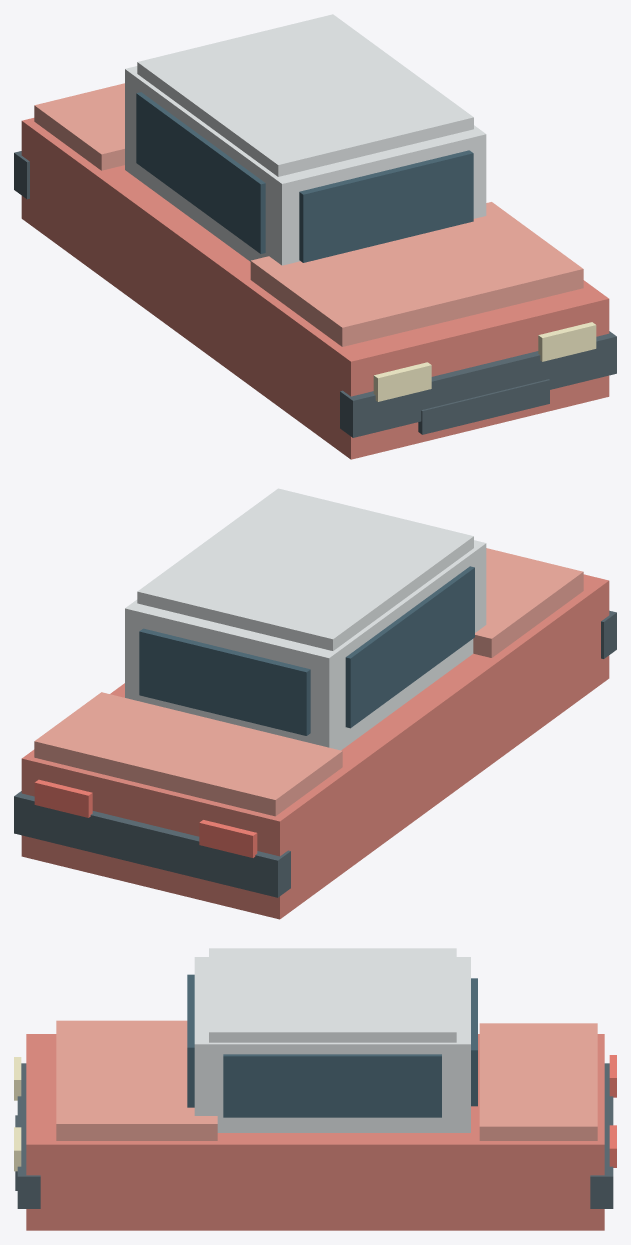
Rendered from physics-car.glb.
The picture shows the model from 3 angles, top to bottom: view 1: azimuth 30°, elevation 25°; view 2: azimuth 150°, elevation 25°; view 3: azimuth 270°, elevation 25°; orthographic projection. The views are drawn at different scales.
Visible parts, largest first — view 1: Body, Roof, Hood, Cabin, Windshield, RightWindow, FrontBumper, Trunk, Grille, LeftHeadlight, RightHeadlight, RearBumper; view 2: Body, Roof, Trunk, Cabin, RearWindow, RearBumper, RightWindow, Hood, LeftTaillight, RightTaillight, FrontBumper; view 3: Body, Roof, Hood, Trunk, LeftWindow, Cabin, FrontBumper, RearBumper, Windshield, RearWindow.
Part boxes in pixels (x1=…): Body: x1=21, y1=118, x2=609, y2=459; Roof: x1=137, y1=14, x2=473, y2=176; Hood: x1=250, y1=202, x2=583, y2=346; Cabin: x1=125, y1=66, x2=486, y2=265; Windshield: x1=299, y1=150, x2=473, y2=262; RightWindow: x1=136, y1=92, x2=265, y2=253; FrontBumper: x1=340, y1=331, x2=616, y2=437; Trunk: x1=34, y1=83, x2=124, y2=170; Grille: x1=418, y1=379, x2=549, y2=434; LeftHeadlight: x1=538, y1=322, x2=596, y2=361; RightHeadlight: x1=373, y1=362, x2=431, y2=401; RearBumper: x1=14, y1=151, x2=29, y2=199; Body: x1=21, y1=574, x2=609, y2=919; Roof: x1=137, y1=488, x2=473, y2=650; Trunk: x1=34, y1=692, x2=342, y2=816; Cabin: x1=125, y1=540, x2=486, y2=750; RearWindow: x1=139, y1=628, x2=310, y2=735; RearBumper: x1=14, y1=791, x2=290, y2=897; RightWindow: x1=345, y1=566, x2=474, y2=728; Hood: x1=473, y1=548, x2=583, y2=657; LeftTaillight: x1=34, y1=779, x2=92, y2=817; RightTaillight: x1=199, y1=820, x2=257, y2=857; FrontBumper: x1=601, y1=610, x2=616, y2=658; Body: x1=26, y1=1034, x2=604, y2=1230; Roof: x1=209, y1=948, x2=456, y2=1042; Hood: x1=56, y1=1020, x2=217, y2=1140; Trunk: x1=479, y1=1023, x2=597, y2=1140; LeftWindow: x1=223, y1=1054, x2=441, y2=1117; Cabin: x1=194, y1=957, x2=470, y2=1132; FrontBumper: x1=17, y1=1063, x2=40, y2=1208; RearBumper: x1=590, y1=1063, x2=613, y2=1208; Windshield: x1=187, y1=974, x2=194, y2=1107; RearWindow: x1=471, y1=978, x2=477, y2=1106.
Size of the model in its own units: 1.86 by 1.42 by 4.19.
